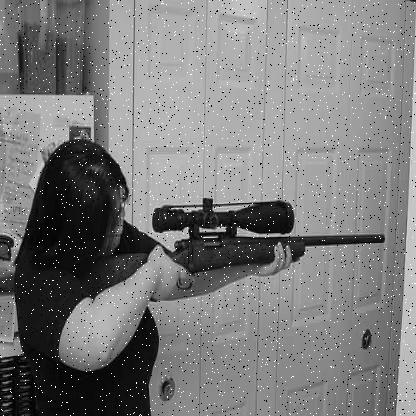rifle: (69, 183, 393, 322)
